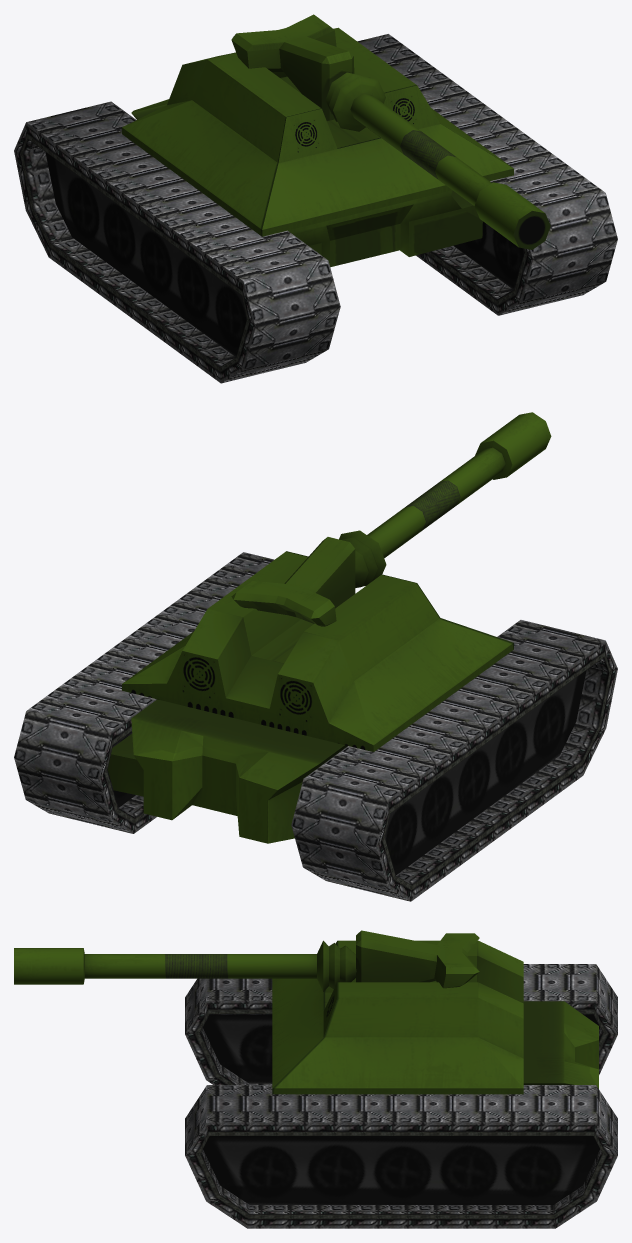
Rendered from Tank.FBX.
The picture shows the model from 3 angles, top to bottom: view 1: azimuth 30°, elevation 25°; view 2: azimuth 150°, elevation 25°; view 3: azimuth 270°, elevation 25°; orthographic projection. The views are drawn at different scales.
Parts seen in each view (by area): view 1: Tank, Tank_Top; view 2: Tank, Tank_Top; view 3: Tank, Tank_Top.
Part boxes in pixels (<box>): Tank: <box>14,34,617,383</box>; Tank_Top: <box>122,14,550,249</box>; Tank: <box>14,552,617,901</box>; Tank_Top: <box>122,412,551,751</box>; Tank: <box>185,964,617,1228</box>; Tank_Top: <box>14,930,523,1094</box>.
Bounding box in the file's own units: 147 × 92.71 × 237.
